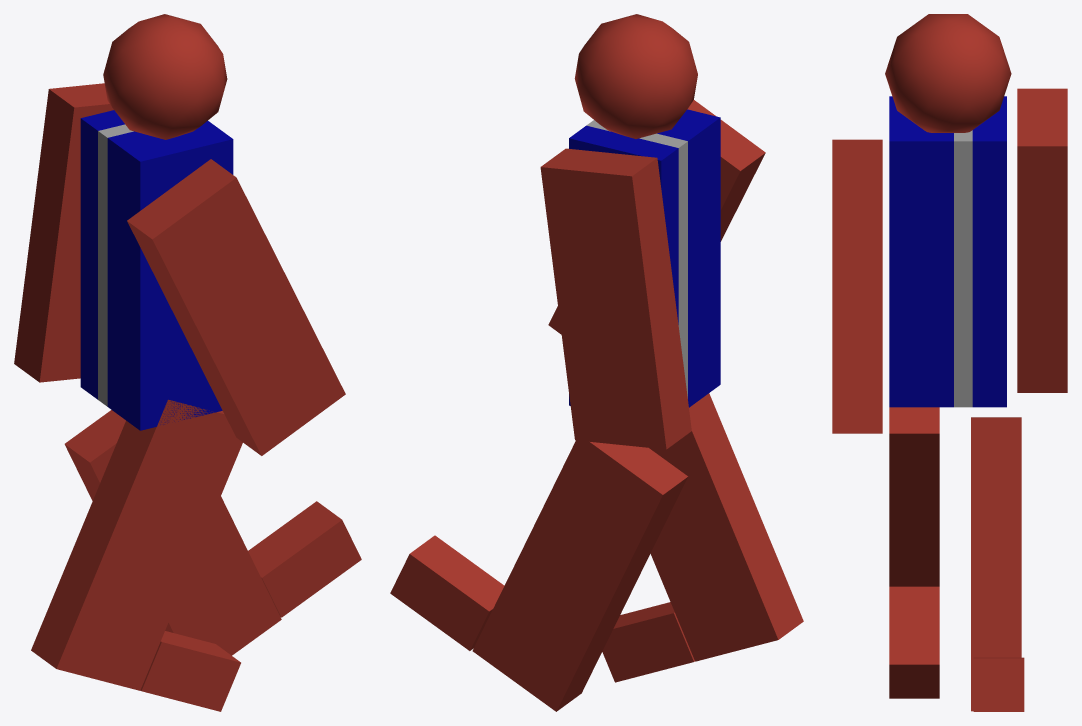
Rendered from player_000063.obj.
The picture shows the model from 3 angles, left to right: view 1: azimuth 30°, elevation 25°; view 2: azimuth 150°, elevation 25°; view 3: azimuth 270°, elevation 25°; orthographic projection.
Visible parts, largest first — view 1: Cube.001, Cube.005, Cube, Cube.006, Cube.002, Icosphere, Cube.004, Cube.003; view 2: Cube.006, Cube.002, Cube.001, Cube, Icosphere, Cube.004, Cube.003, Cube.005; view 3: Cube, Cube.006, Cube.005, Cube.002, Icosphere, Cube.001, Cube.003, Cube.004.
Boxes of the visible parts, x1=… form: Cube.001: x1=31, y1=399, x2=242, y2=690; Cube.005: x1=127, y1=159, x2=345, y2=455; Cube: x1=80, y1=110, x2=233, y2=430; Cube.006: x1=14, y1=83, x2=113, y2=382; Cube.002: x1=64, y1=410, x2=281, y2=655; Icosphere: x1=103, y1=14, x2=227, y2=139; Cube.004: x1=248, y1=501, x2=361, y2=617; Cube.003: x1=140, y1=631, x2=240, y2=711; Cube.006: x1=540, y1=148, x2=691, y2=449; Cube.002: x1=472, y1=440, x2=688, y2=711; Cube.001: x1=649, y1=393, x2=803, y2=661; Cube: x1=569, y1=109, x2=720, y2=407; Icosphere: x1=574, y1=14, x2=697, y2=138; Cube.004: x1=390, y1=535, x2=504, y2=650; Cube.003: x1=602, y1=602, x2=694, y2=682; Cube.005: x1=548, y1=100, x2=765, y2=334; Cube: x1=889, y1=96, x2=1006, y2=407; Cube.006: x1=1017, y1=88, x2=1067, y2=392; Cube.005: x1=832, y1=139, x2=882, y2=433; Cube.002: x1=971, y1=417, x2=1021, y2=711; Icosphere: x1=885, y1=14, x2=1011, y2=132; Cube.001: x1=889, y1=407, x2=939, y2=586; Cube.003: x1=889, y1=586, x2=939, y2=698; Cube.004: x1=973, y1=657, x2=1024, y2=711.
Size of the model in its own units: 1.54 by 2.88 by 0.9137.
